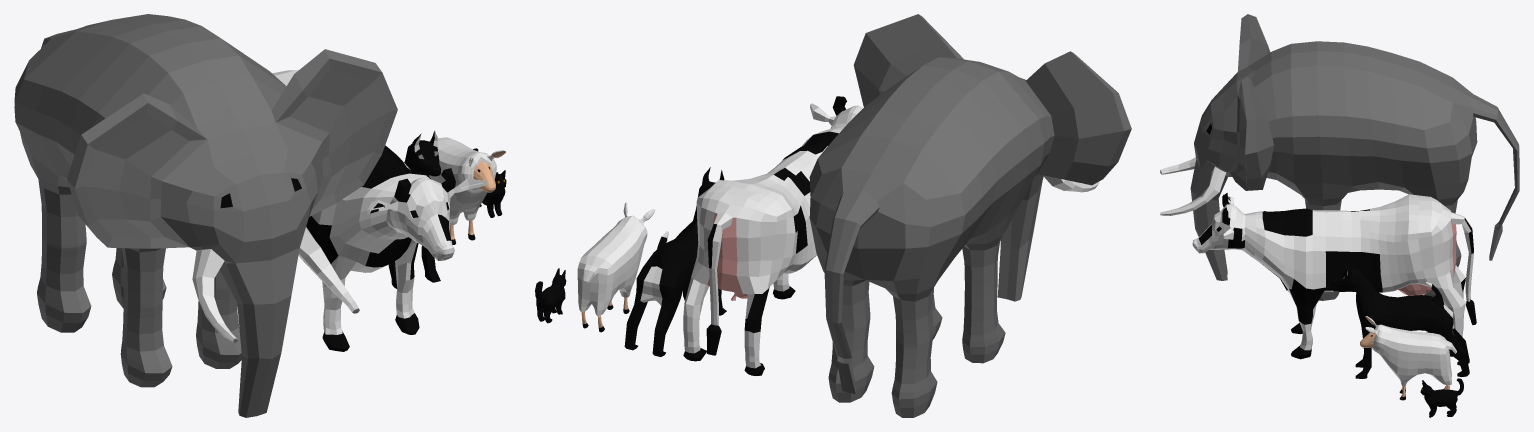
File: low poly animals.fbx
3 views of the same model, side by side, from view 1: azimuth 30°, elevation 25°; view 2: azimuth 150°, elevation 25°; view 3: azimuth 270°, elevation 25° (orthographic). The views are drawn at different scales.
Visible parts, largest first — view 1: Cube, cow, Cube.001, dog, Cube.002; view 2: Cube, cow, dog, Cube.001, Cube.002; view 3: Cube, cow, dog, Cube.001, Cube.002.
Part boxes in pixels (x1=…): Cube: x1=14, y1=14, x2=397, y2=417; cow: x1=272, y1=70, x2=487, y2=351; Cube.001: x1=429, y1=137, x2=505, y2=244; dog: x1=384, y1=130, x2=441, y2=288; Cube.002: x1=473, y1=148, x2=506, y2=217; Cube: x1=809, y1=14, x2=1131, y2=417; cow: x1=683, y1=96, x2=863, y2=375; dog: x1=624, y1=167, x2=726, y2=356; Cube.001: x1=577, y1=202, x2=655, y2=332; Cube.002: x1=535, y1=268, x2=566, y2=323; Cube: x1=1160, y1=14, x2=1519, y2=300; cow: x1=1192, y1=193, x2=1476, y2=359; dog: x1=1330, y1=257, x2=1469, y2=378; Cube.001: x1=1360, y1=316, x2=1456, y2=400; Cube.002: x1=1420, y1=378, x2=1463, y2=417.
Size of the model in its own units: 572 by 333 by 449.
